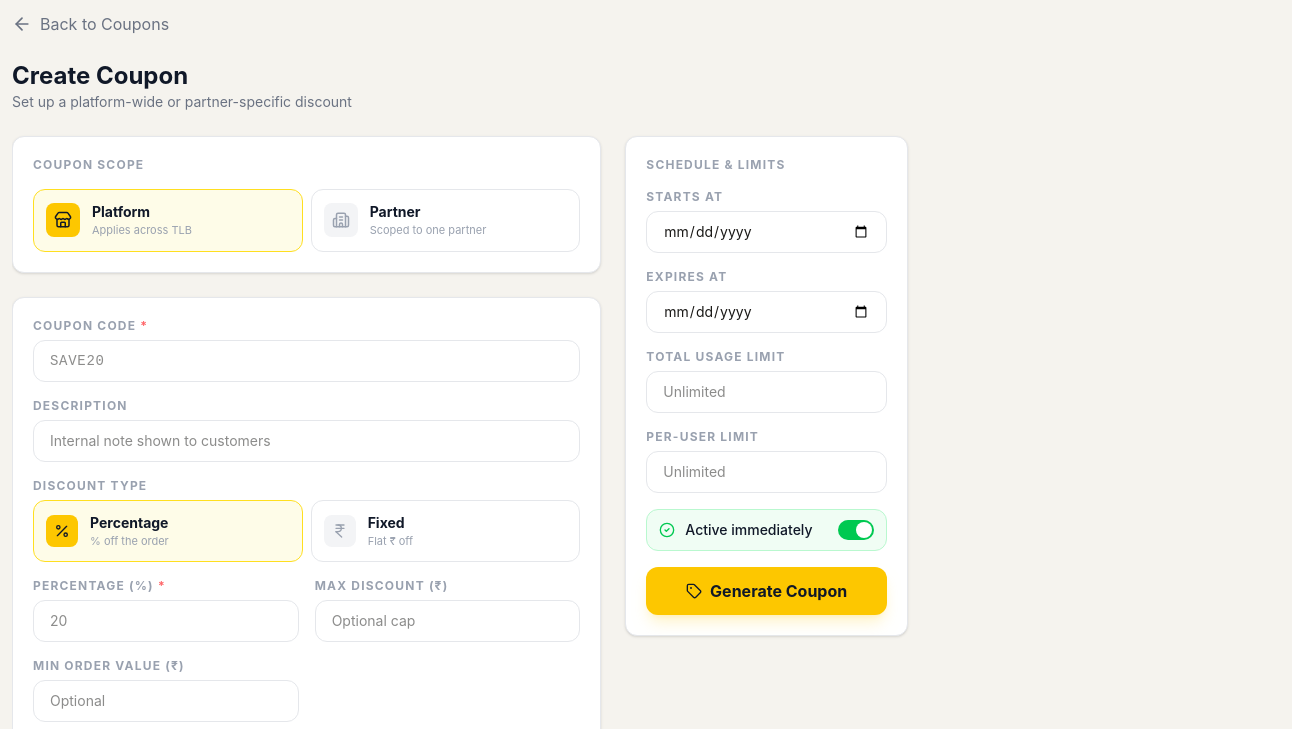
it: CreateCoupon › requires a coupon code
Click the button "Generate Coupon": x=767, y=591 [646, 567, 887, 615]
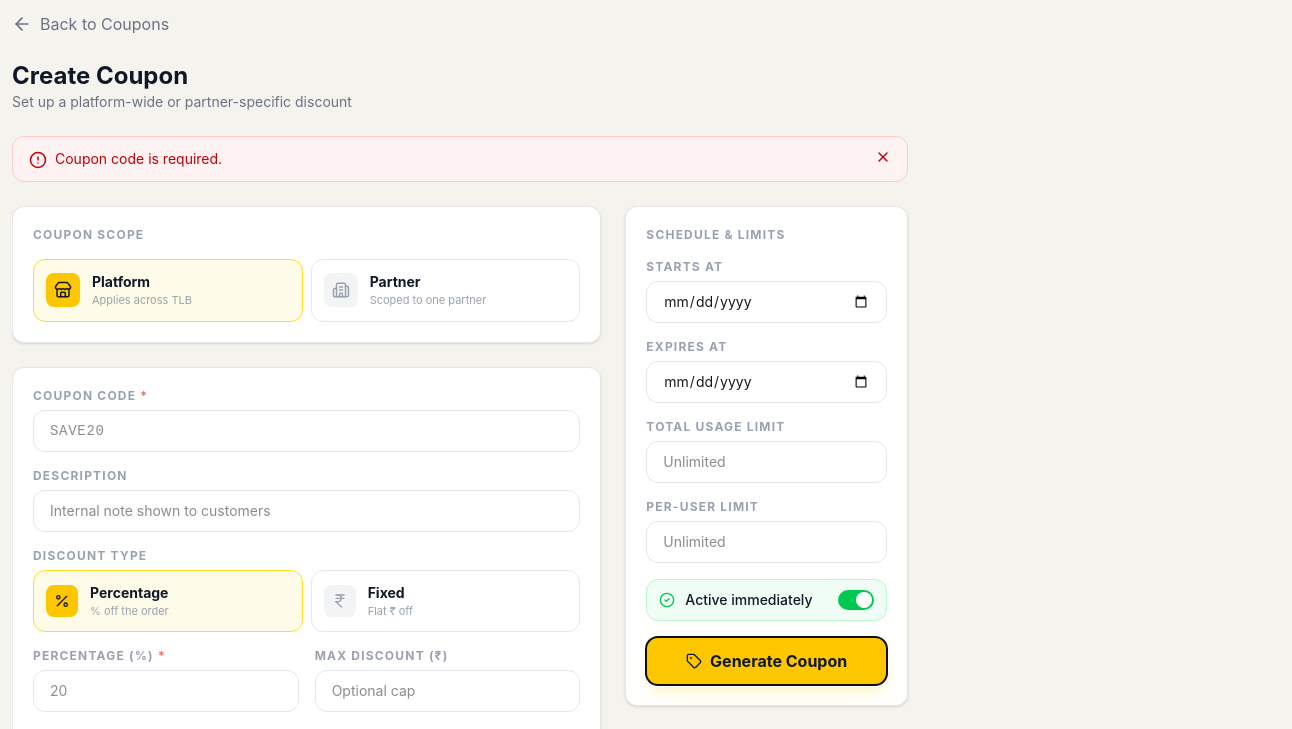
Expected: the text "Coupon code is required." is shown, [55, 150, 222, 167]
